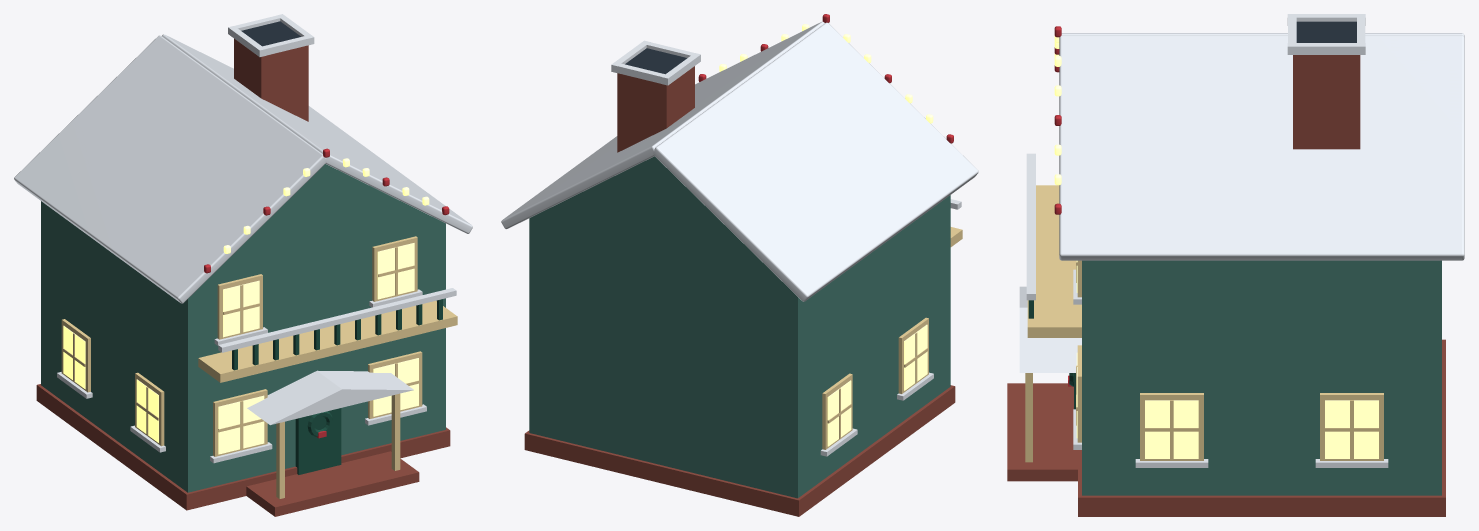
File: lantern.glb
3 views of the same model, side by side, from view 1: azimuth 30°, elevation 25°; view 2: azimuth 150°, elevation 25°; view 3: azimuth 270°, elevation 25° (orthographic). The views are drawn at different scales.
Visible parts, largest first — view 1: Exterior; view 2: Exterior; view 3: Exterior.
Part boxes in pixels (box(x1,y1,x2,y2)): Exterior: box(14, 14, 472, 516); Exterior: box(501, 14, 978, 516); Exterior: box(1007, 14, 1464, 516).
Size of what is drawn, in the model's own units: 7.78 by 9.03 by 8.51.
